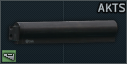AK-74M CAA AKTS AK74 buffer tube: (0, 0, 127, 64)
